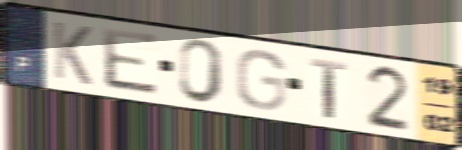0: (176, 37, 226, 106)
2: (362, 63, 412, 134)
E: (99, 25, 162, 99)
G: (233, 47, 288, 112)
K: (50, 18, 95, 88)
T: (307, 55, 350, 121)
